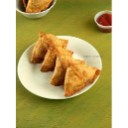samosa: (63, 57, 101, 94), (53, 42, 86, 84), (45, 38, 74, 70)
